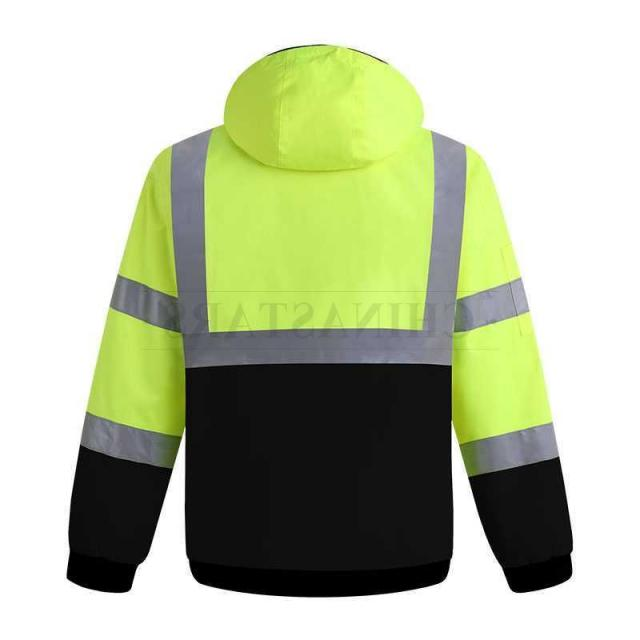Reflective-Jacket: (59, 49, 596, 629)
